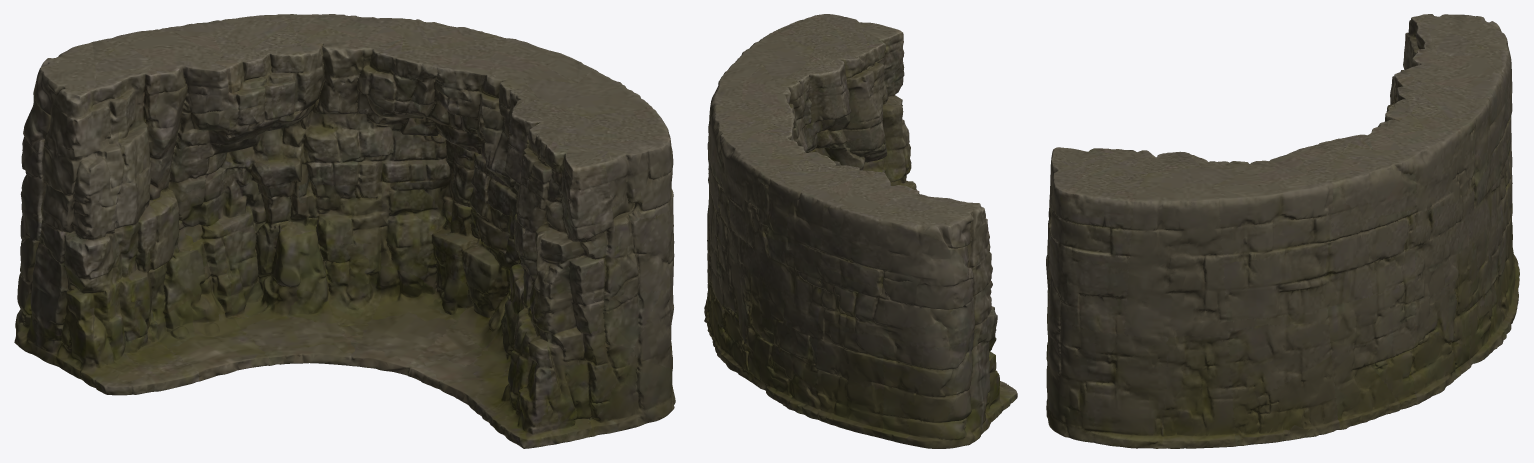
The model's file is Meshy_AI_cliff_curved_a_0823030540_image-to-3d-texture.glb.
The picture shows the model from 3 angles, left to right: view 1: azimuth 30°, elevation 25°; view 2: azimuth 150°, elevation 25°; view 3: azimuth 270°, elevation 25°; orthographic projection. The views are drawn at different scales.
Visible parts, largest first — view 1: mesh_node; view 2: mesh_node; view 3: mesh_node.
Boxes of the visible parts, x1,y1,x2,y2 form: mesh_node: [14, 14, 675, 448]; mesh_node: [704, 14, 1017, 448]; mesh_node: [1046, 14, 1519, 448].
Size of the model in its own units: 1.9 by 1.07 by 1.89.
1 material, 1 textured.
